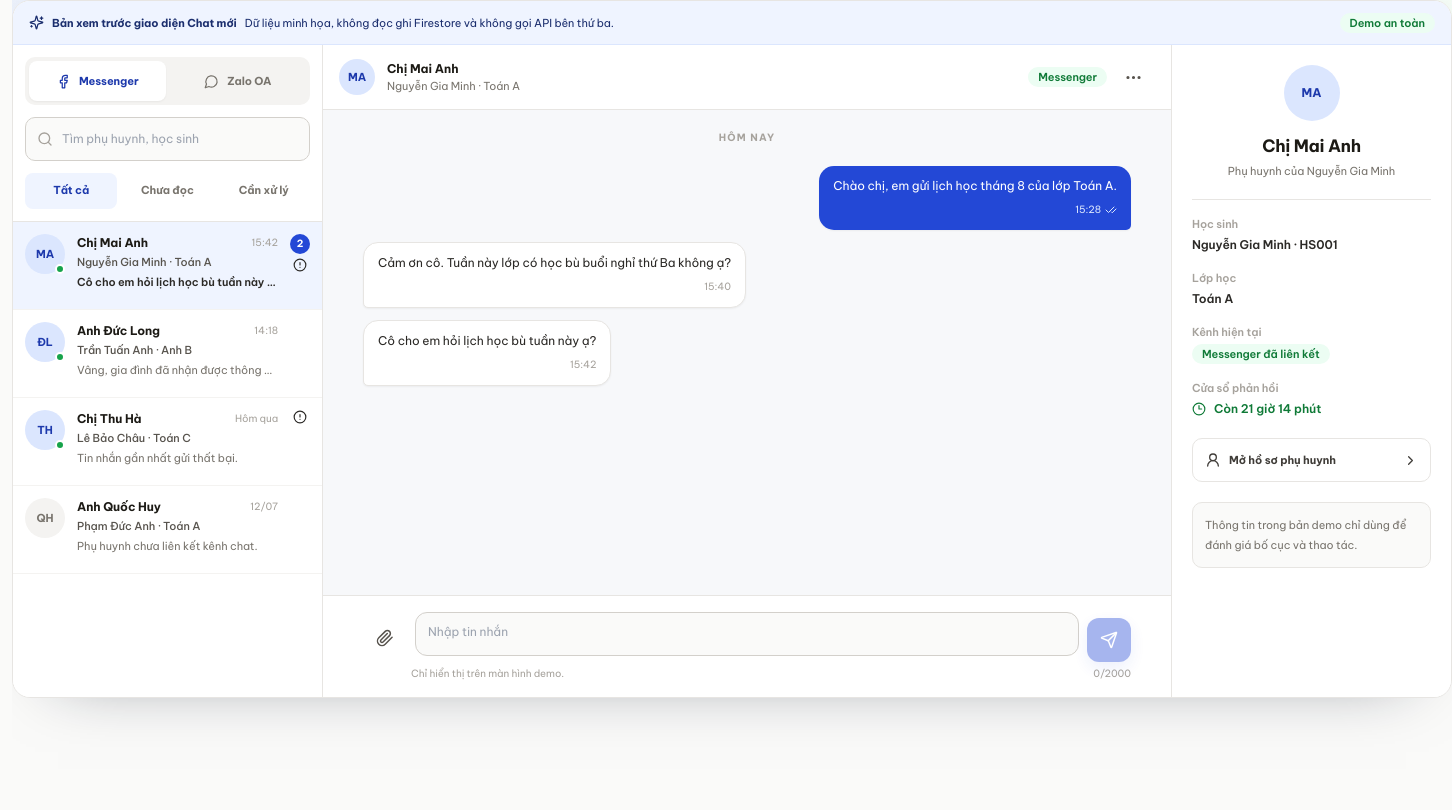
Test: ChatDemoPage › sends only into local demo state
The image size is (1452, 810).
In the text box named "Soạn tin nhắn": [747, 634] box [415, 612, 1079, 656], type "Tin nhắn demo"
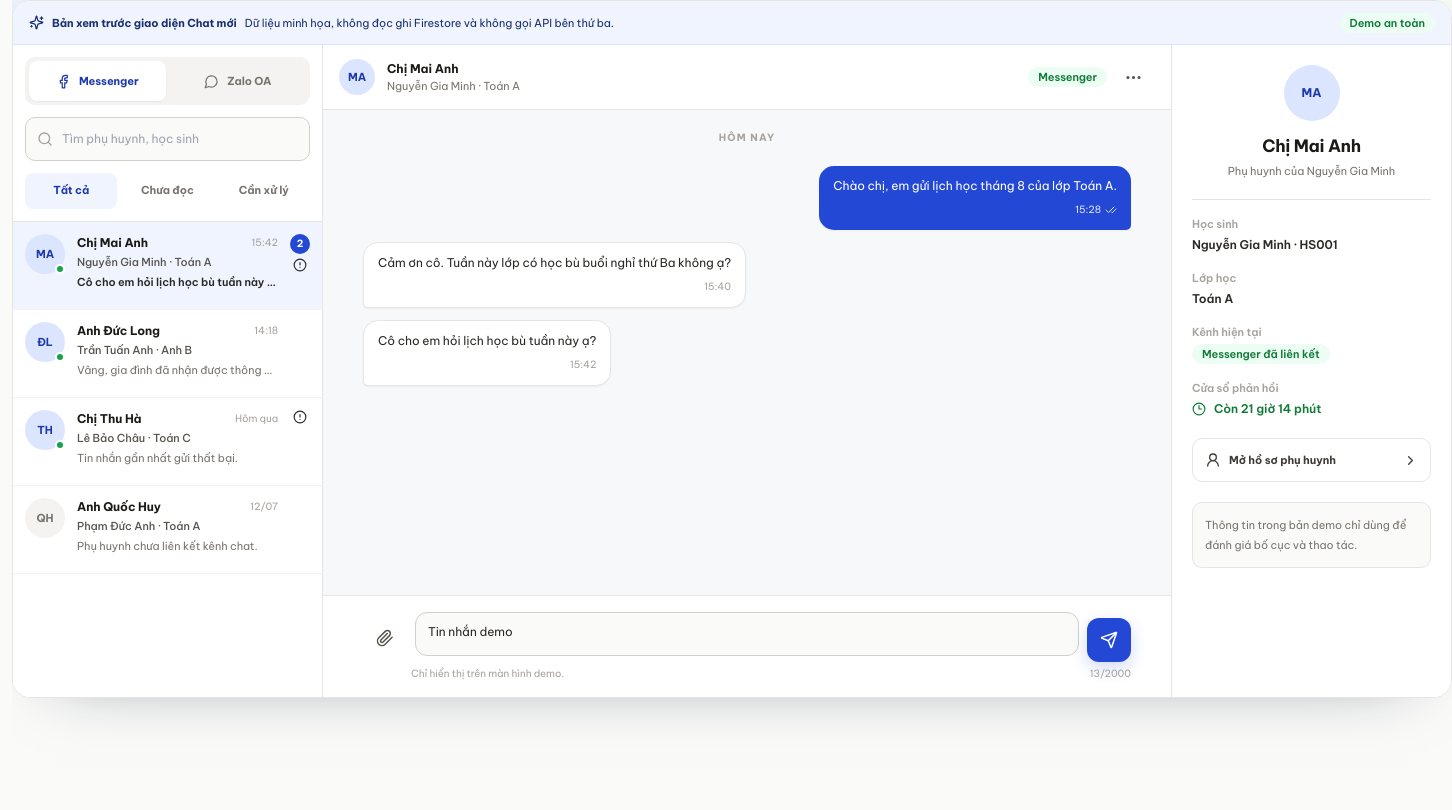
Click the button named "Gửi tin nhắn demo": [1109, 640] box [1087, 618, 1131, 662]
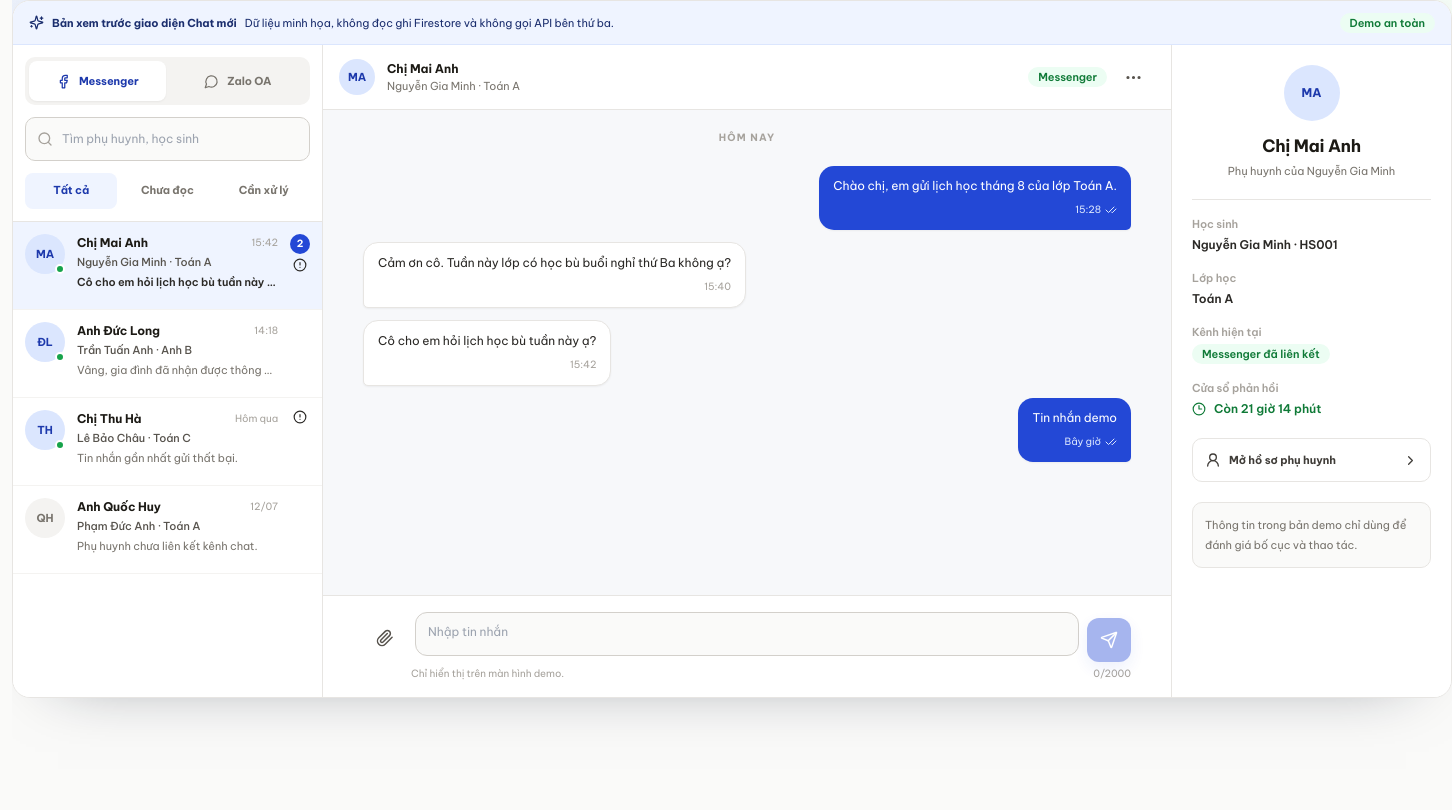
Expected: the text "Tin nhắn demo" is shown, [1032, 408, 1117, 428]
Expected: the text box named "Soạn tin nhắn" is empty, [415, 612, 1079, 656]
